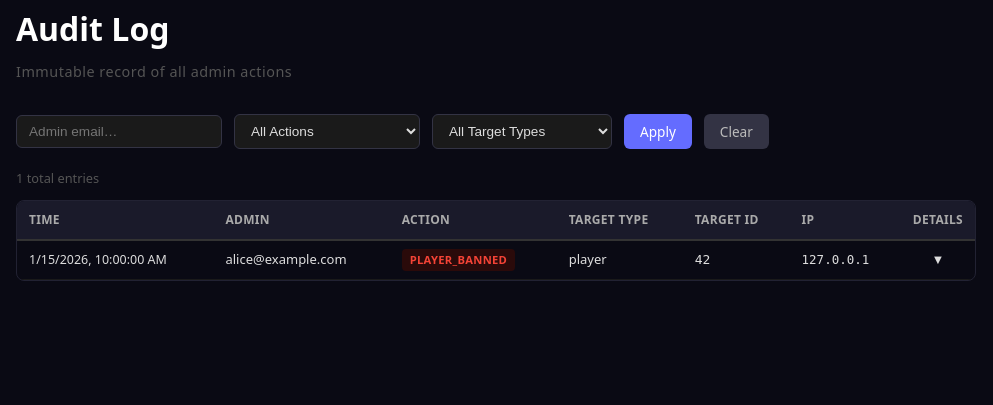
Test case: AuditLog › expands detail JSON on row click
The image size is (993, 405).
Check: the text "alice@example.com" is shown, box [214, 240, 390, 280]
Note: Click the data row (index 1, after header)
Click the row that starts with "1/15/2026, 10:00:00 AM": (496, 260) [17, 240, 975, 280]
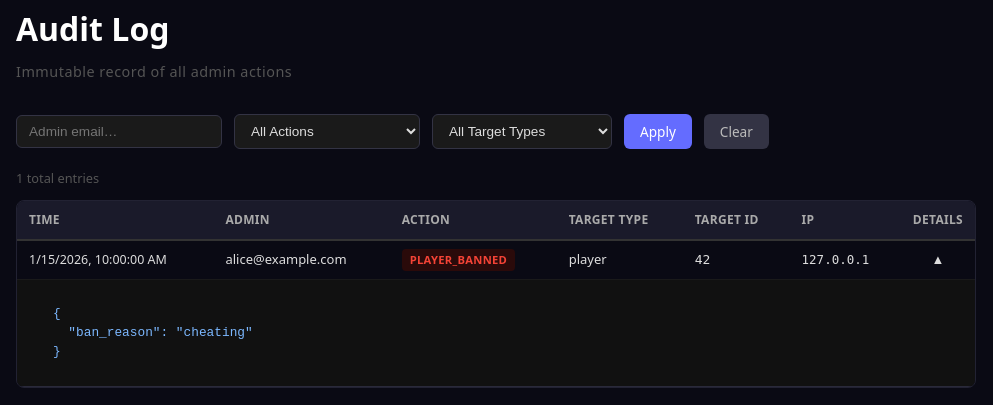
Check: the text "{ \"ban_reason\": \"cheating\" }" is shown, box [53, 306, 253, 359]
